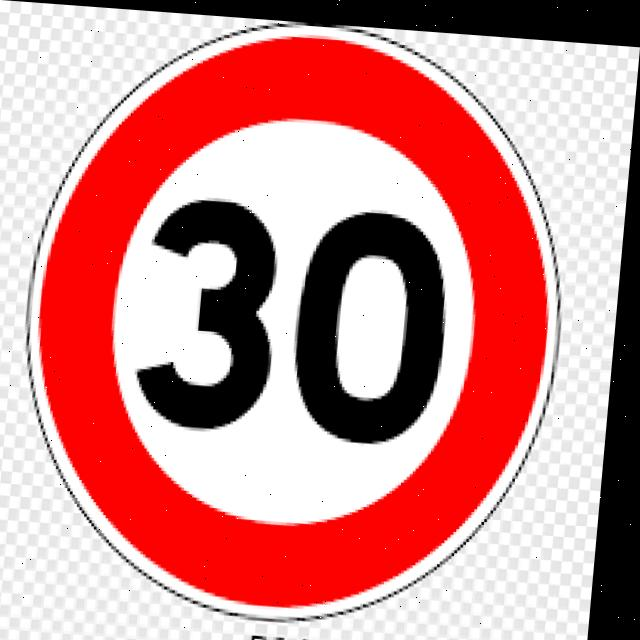Speed limit 30: (10, 4, 590, 630)
